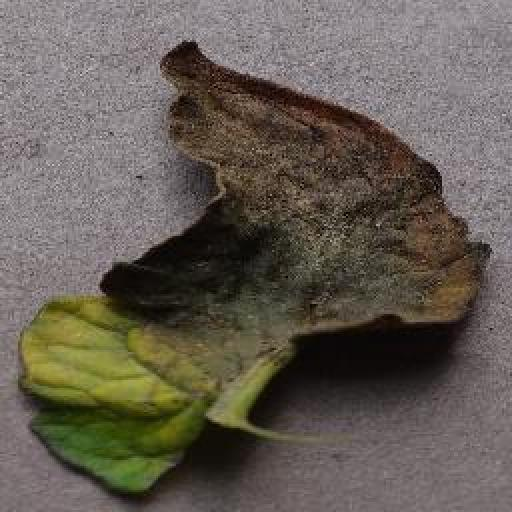Late Blight: (23, 36, 492, 495)
